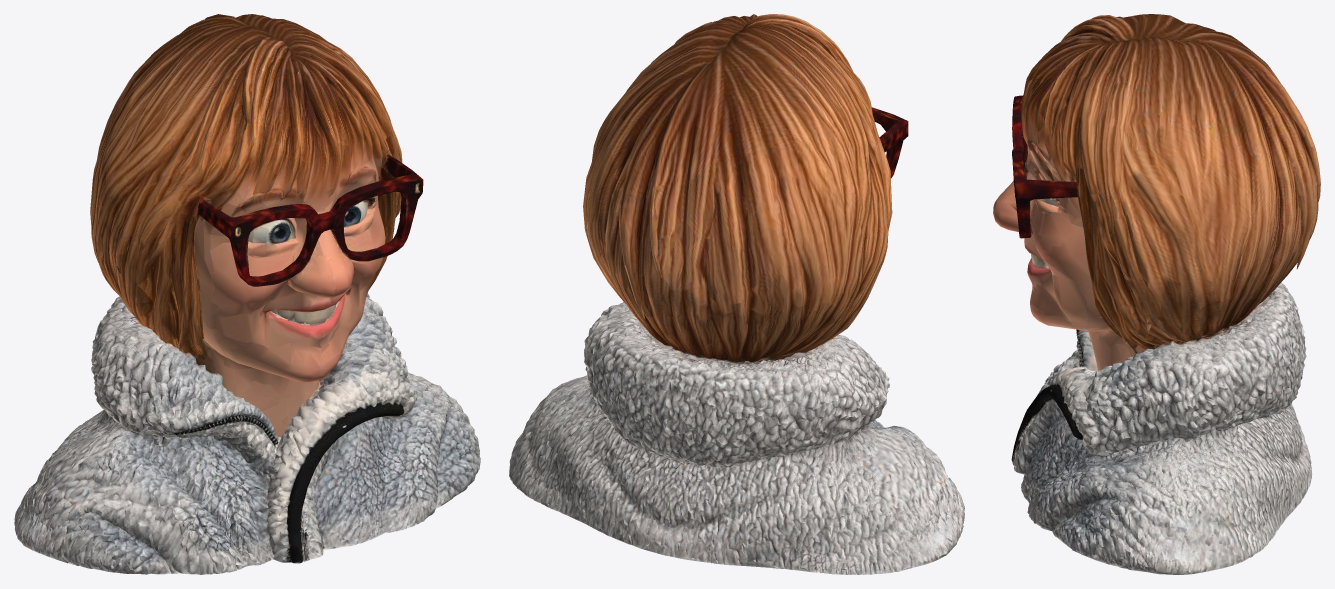
File: avatar-ar.glb
3 renders of one model, left to right at view 1: azimuth 30°, elevation 25°; view 2: azimuth 150°, elevation 25°; view 3: azimuth 270°, elevation 25°, orthographic. The views are drawn at different scales.
Visible parts, largest first — view 1: Mesh_0; view 2: Mesh_0; view 3: Mesh_0.
Part boxes in pixels (left/top/right/bottom): Mesh_0: left=14, top=14, right=480, bottom=574; Mesh_0: left=509, top=14, right=964, bottom=574; Mesh_0: left=993, top=14, right=1320, bottom=574.
Size of the model in its own units: 0.582 by 0.6 by 0.3949.
Materials: 1 (1 with a texture image).
